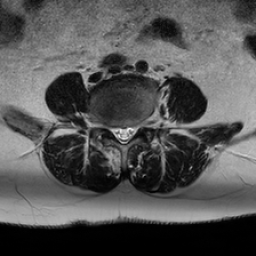CCS_stenosis: (120, 115, 128, 152)
LFS_stenosis: (136, 110, 144, 138)
LLS_normal: (128, 116, 136, 146)
RFS_stenosis: (104, 114, 112, 140)
RLS_normal: (112, 116, 120, 147)
